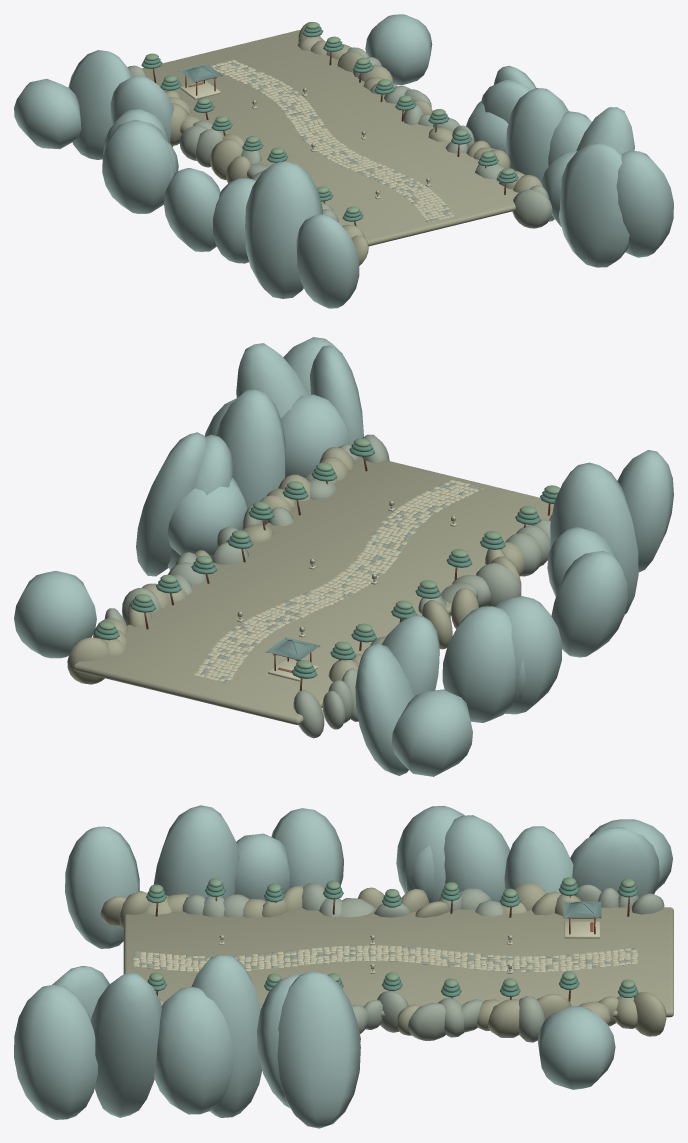
File: landscape.glb
3 views of the same model, one above another, from view 1: azimuth 30°, elevation 25°; view 2: azimuth 150°, elevation 25°; view 3: azimuth 270°, elevation 25° (orthographic). The views are drawn at different scales.
Visible parts, largest first — view 1: landscape; view 2: landscape; view 3: landscape.
Part boxes in pixels (x1=…): landscape: x1=14, y1=14, x2=673, y2=308; landscape: x1=14, y1=337, x2=673, y2=776; landscape: x1=14, y1=805, x2=673, y2=1128.
Bounding box in the file's own units: 82.74 × 26.8 × 101.
